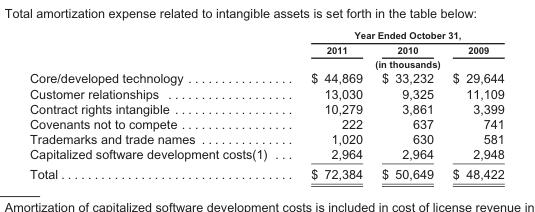table: (28, 29, 503, 181)
table column: (28, 29, 288, 181), (288, 29, 371, 181), (371, 29, 442, 181), (442, 29, 503, 181)
table column header: (28, 29, 503, 70)
table row: (28, 163, 503, 181), (28, 146, 503, 163), (28, 130, 503, 146), (28, 70, 503, 85), (28, 85, 503, 100), (28, 100, 503, 115), (28, 115, 503, 130), (28, 42, 503, 56), (28, 56, 503, 70), (28, 29, 503, 42)
table spanning cell: (288, 56, 503, 70), (288, 29, 503, 42)
